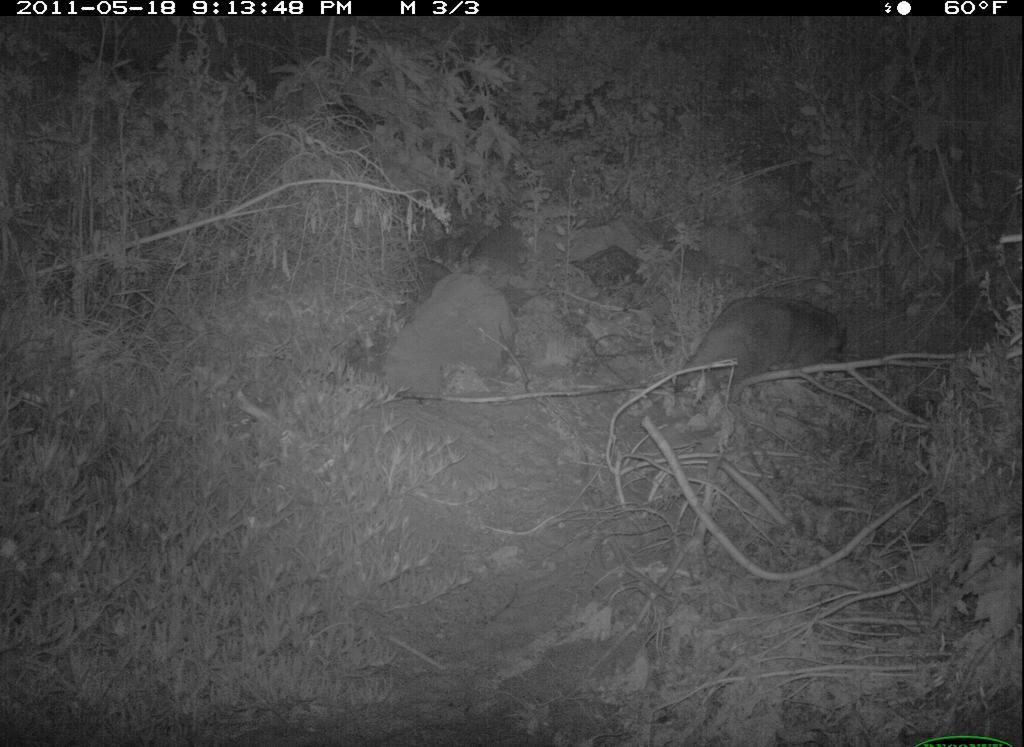raccoon: (676, 278, 849, 400)
